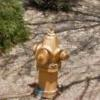Hydrant: (27, 29, 71, 100)
